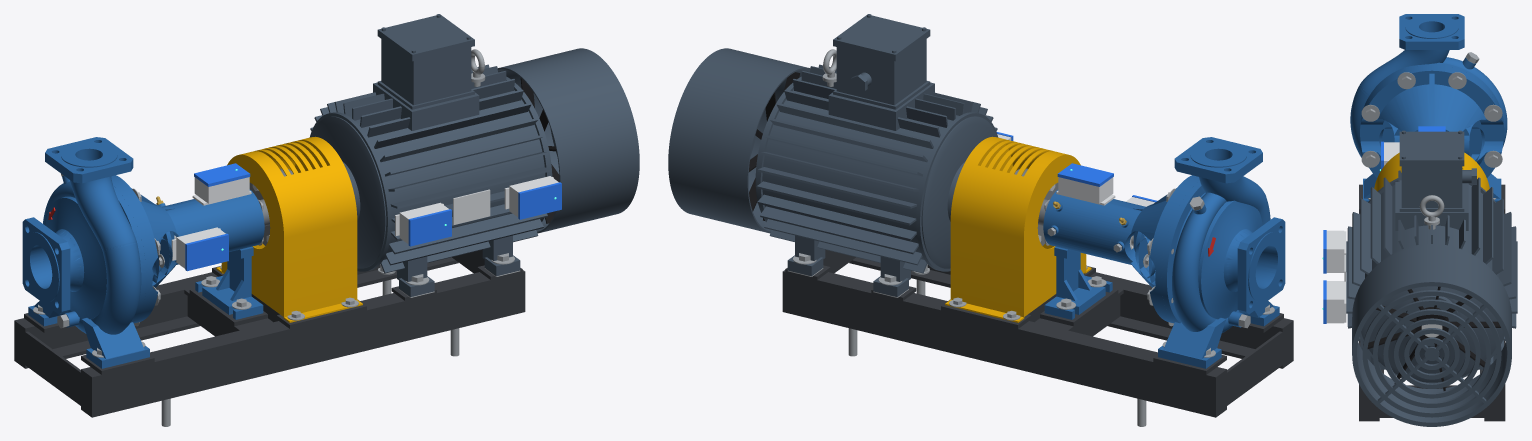
3 renders of one model, left to right at view 1: azimuth 30°, elevation 25°; view 2: azimuth 150°, elevation 25°; view 3: azimuth 270°, elevation 25°, orthographic. The views are drawn at different scales.
Parts seen in each view (by area): view 1: frame.base, motor.frame, pump.casing, coupling.guard, motor.fan_cover, motor.terminal_box, pump.bracket, motor.shield_de, pump.foot, sensor.M_NDE, sensor.P_NDE, sensor.M_DE (+4 smaller); view 2: frame.base, motor.frame, pump.casing, coupling.guard, motor.fan_cover, motor.terminal_box, pump.bracket, motor.shield_de, pump.foot, sensor.P_DE, pump.cover, frame.anchors (+1 smaller); view 3: motor.fan_cover, motor.frame, pump.bracket, pump.casing, motor.terminal_box, motor.shield_nde, frame.base, pump.cover, motor.fan, sensor.M_NDE, sensor.M_DE, coupling.guard (+8 smaller).
Boxes of the visible parts, x1,y1,x2,y2 form: frame.base: (14,249,525,417); motor.frame: (309,64,550,297); pump.casing: (22,137,149,368); coupling.guard: (216,136,362,322); motor.fan_cover: (497,48,639,233); motor.terminal_box: (377,14,474,109); pump.bracket: (111,175,258,322); motor.shield_de: (311,116,386,268); pump.foot: (195,251,263,319); sensor.M_NDE: (504,176,561,219); sensor.P_NDE: (171,227,228,271); sensor.M_DE: (395,202,451,246); frame.base: (782,249,1293,417); motor.frame: (756,64,998,297); pump.casing: (1158,137,1285,368); coupling.guard: (945,136,1091,322); motor.fan_cover: (668,48,810,233); motor.terminal_box: (833,14,930,109); pump.bracket: (1049,175,1198,322); motor.shield_de: (921,116,996,268); pump.foot: (1044,251,1112,319); sensor.P_DE: (1056,163,1115,205); pump.cover: (1155,177,1204,323); frame.anchors: (848,264,1146,426); motor.fan_cover: (1352,245,1511,426); motor.frame: (1346,170,1517,383); pump.bracket: (1360,67,1503,177); pump.casing: (1350,14,1507,202); motor.terminal_box: (1399,130,1476,211); motor.shield_nde: (1361,286,1502,382); frame.base: (1359,184,1505,421); pump.cover: (1360,65,1504,153); motor.fan: (1363,286,1500,390); sensor.M_NDE: (1322,280,1346,323); sensor.M_DE: (1322,230,1346,273); coupling.guard: (1374,152,1489,191).
Bounding box in the file's own units: 1.16 × 0.587 × 0.3742.
